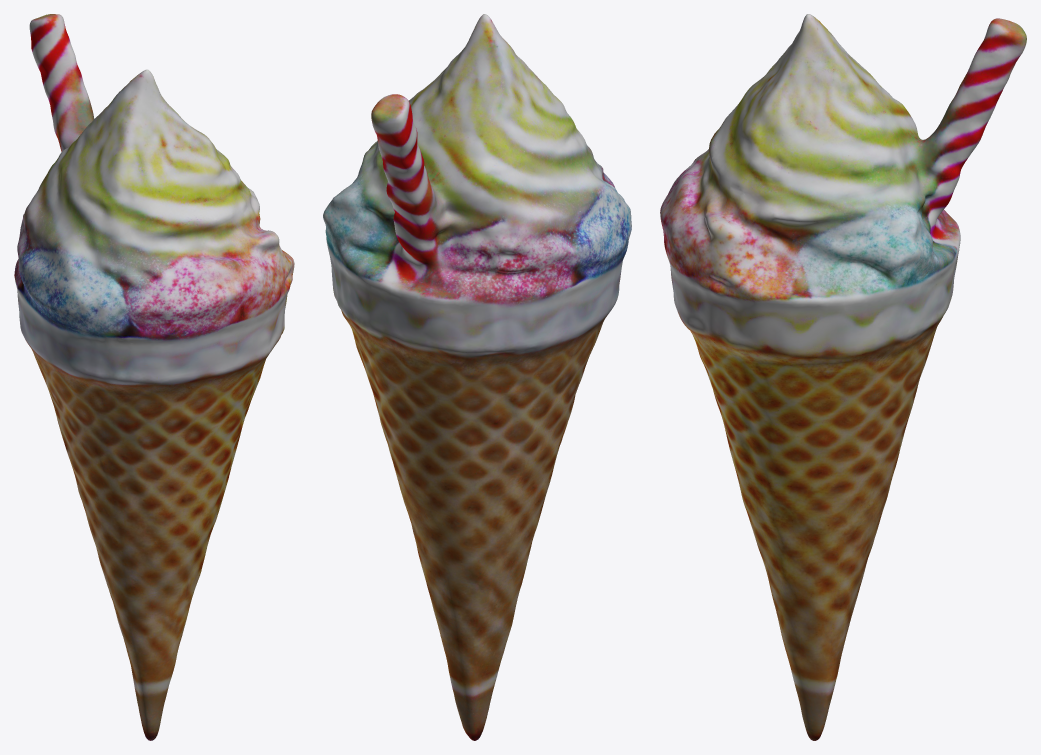
Rendered from SmallCone.fbx.
3 views of the same model, side by side, from view 1: azimuth 30°, elevation 25°; view 2: azimuth 150°, elevation 25°; view 3: azimuth 270°, elevation 25° (orthographic). The views are drawn at different scales.
Visible parts, largest first — view 1: high_poly; view 2: high_poly; view 3: high_poly.
Boxes of the visible parts, left/top/right/bottom form: high_poly: left=14, top=14, right=294, bottom=740; high_poly: left=323, top=14, right=631, bottom=740; high_poly: left=660, top=14, right=1026, bottom=740.
Bounding box in the file's own units: 37.65 × 100 × 45.98.
